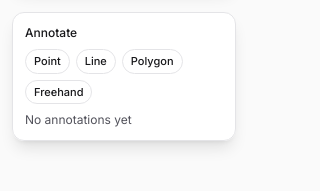
Scenario: <LayerViewer> annotation tool › clicking the already-active mode button again returns terra-draw to the idle render mode
Click the button "Point".
click(47, 61)  # box [25,49,70,74]
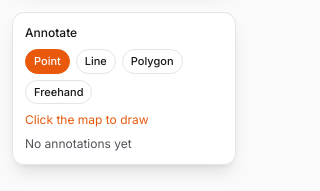
Click the button "Point".
click(47, 61)  # box [25,49,70,74]
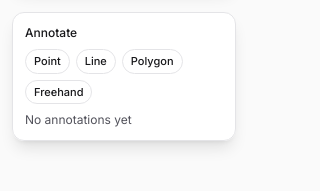
Check: the text "Click the map to draw" is gone
